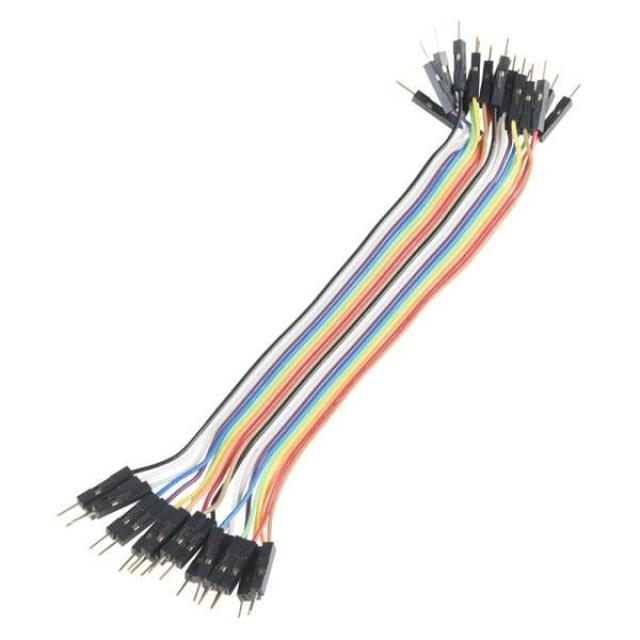Jumper Wires: (22, 17, 597, 629)
